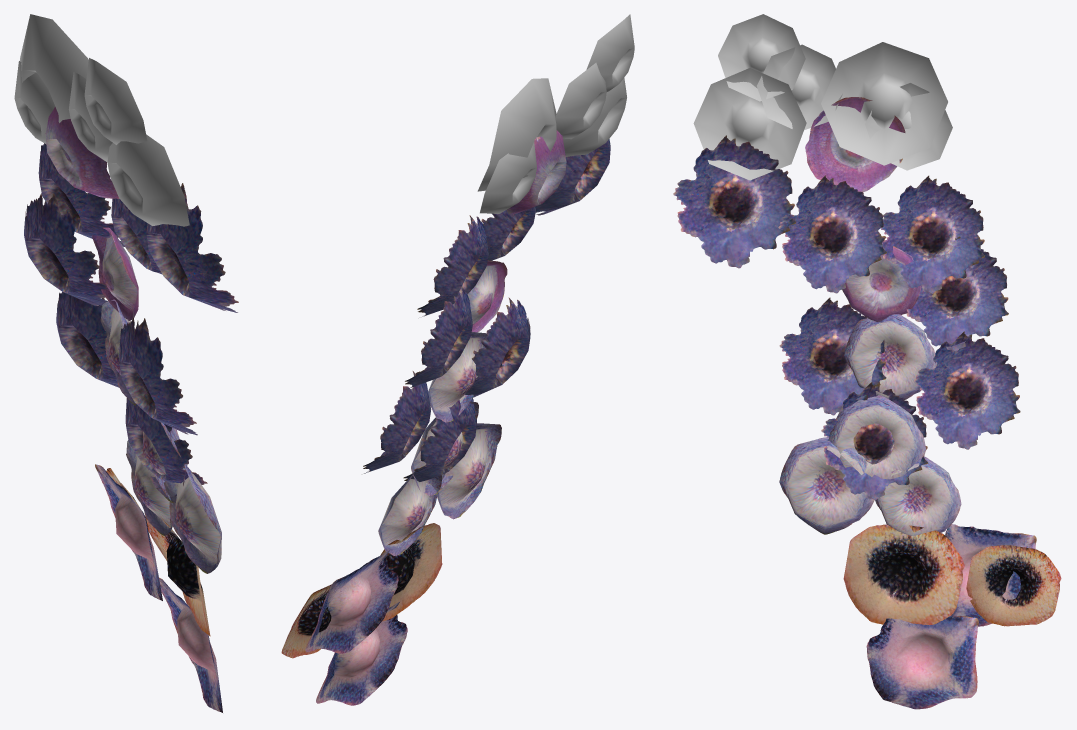
Rendered from Right_Flower8.fbx.
The picture shows the model from 3 angles, left to right: view 1: azimuth 30°, elevation 25°; view 2: azimuth 150°, elevation 25°; view 3: azimuth 270°, elevation 25°; orthographic projection. The views are drawn at different scales.
Parts seen in each view (by area): view 1: Circle.1768, Circle.1789, Circle.1783, Circle.1793, Circle.1796, Circle.1523, Circle.1777, Circle.1790, Circle.1795, Circle.1791, Circle.1518, Circle.1517 (+9 smaller); view 2: Circle.1518, Circle.1517, Circle.1796, Circle.1793, Circle.1519, Circle.1523, Circle.1791, Circle.1789, Circle.1524, Circle.1790, Circle.1786, Circle.1778 (+10 smaller); view 3: Circle.1796, Circle.1783, Circle.1519, Circle.1517, Circle.1794, Circle.1790, Circle.1791, Circle.1768, Circle.1793, Circle.1520, Circle.1523, Circle.1789 (+10 smaller).
Boxes of the visible parts, <box> form: Circle.1768: <box>107,134,189,226</box>; Circle.1789: <box>24,193,108,305</box>; Circle.1783: <box>146,183,238,312</box>; Circle.1793: <box>119,317,197,435</box>; Circle.1796: <box>20,14,88,122</box>; Circle.1523: <box>164,464,221,573</box>; Circle.1777: <box>84,58,147,144</box>; Circle.1790: <box>56,292,118,387</box>; Circle.1795: <box>45,107,119,198</box>; Circle.1791: <box>38,143,124,246</box>; Circle.1518: <box>95,464,162,600</box>; Circle.1517: <box>159,577,222,712</box>; Circle.1518: <box>305,550,398,653</box>; Circle.1517: <box>316,602,407,705</box>; Circle.1796: <box>477,78,556,191</box>; Circle.1793: <box>465,297,530,397</box>; Circle.1519: <box>380,523,442,621</box>; Circle.1523: <box>436,423,501,519</box>; Circle.1791: <box>417,215,488,316</box>; Circle.1789: <box>405,287,472,389</box>; Circle.1524: <box>378,473,441,555</box>; Circle.1790: <box>363,371,431,473</box>; Circle.1786: <box>403,398,476,481</box>; Circle.1778: <box>555,62,606,139</box>; Circle.1796: <box>821,42,947,165</box>; Circle.1783: <box>673,135,795,268</box>; Circle.1519: <box>843,524,964,624</box>; Circle.1517: <box>866,615,978,709</box>; Circle.1794: <box>778,175,886,293</box>; Circle.1790: <box>914,331,1020,449</box>; Circle.1791: <box>881,175,984,293</box>; Circle.1768: <box>693,68,806,180</box>; Circle.1793: <box>779,297,886,415</box>; Circle.1520: <box>966,545,1061,626</box>; Circle.1523: <box>779,436,874,534</box>; Circle.1789: <box>906,236,1008,351</box>.
Size of the model in its own units: 29.7 by 95.81 by 55.93.
